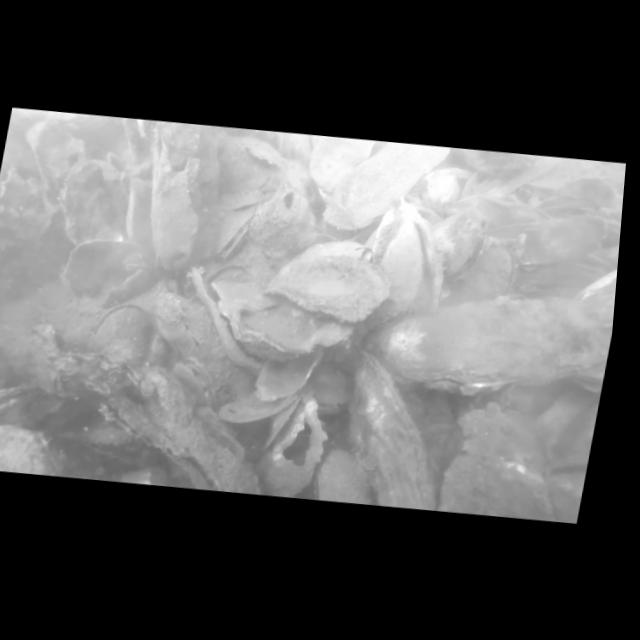Oyster-Closed: (361, 275, 617, 409), (328, 346, 464, 512), (80, 390, 275, 497), (82, 298, 159, 377), (456, 241, 520, 306), (0, 375, 45, 456)
Oyster-Indeterminate: (433, 397, 573, 523), (194, 277, 360, 367), (263, 243, 395, 325), (50, 157, 133, 246), (51, 231, 154, 302), (251, 342, 326, 403), (311, 446, 382, 505), (0, 420, 67, 477), (213, 386, 301, 428)
Oyster-Open: (371, 213, 457, 322), (254, 387, 334, 501), (422, 200, 494, 285), (164, 352, 228, 413), (214, 201, 259, 263)
